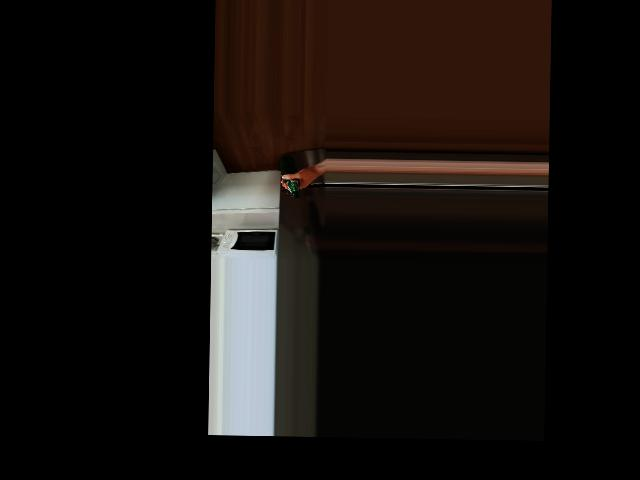beer: (279, 155, 301, 197)
